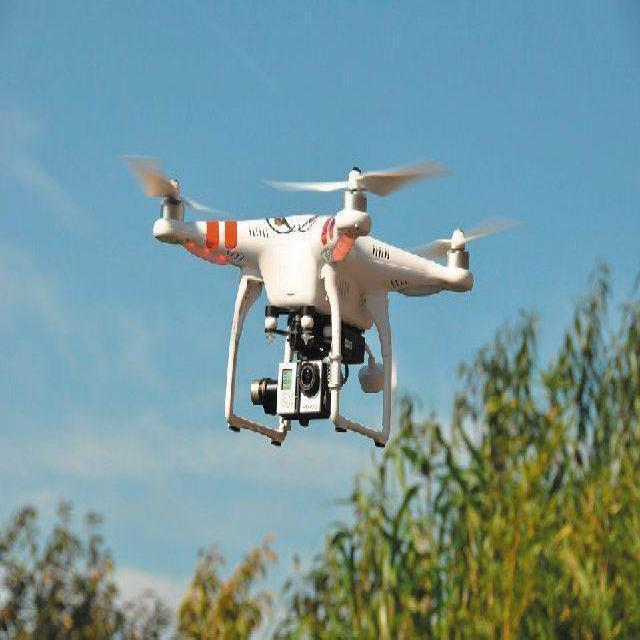drone: (122, 157, 474, 451)
